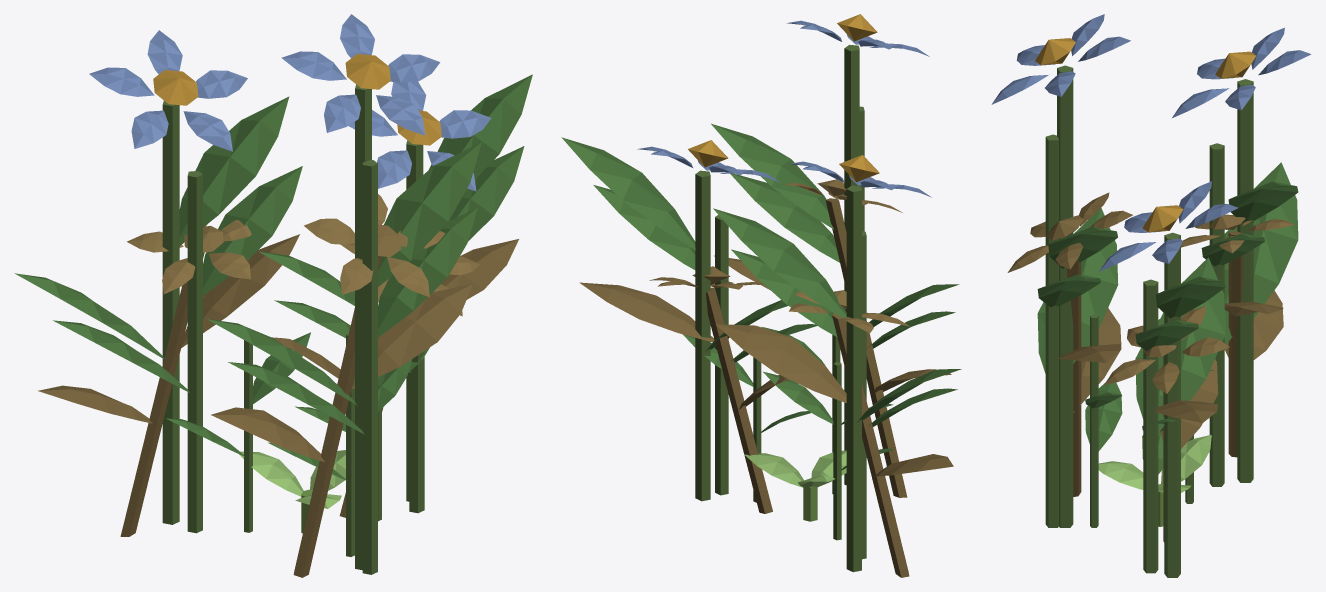
Rendered from spring_flax.glb.
The picture shows the model from 3 angles, left to right: view 1: azimuth 30°, elevation 25°; view 2: azimuth 150°, elevation 25°; view 3: azimuth 270°, elevation 25°; orthographic projection. The views are drawn at different scales.
Visible parts, largest first — view 1: stage3, stage2, dead, stage1, stage0; view 2: stage3, dead, stage2, stage1, stage0; view 3: stage3, stage2, dead, stage1, stage0.
Part boxes in pixels (bbox=[...]): stage3: bbox=[14, 14, 532, 570]; stage2: bbox=[53, 146, 524, 574]; dead: bbox=[38, 194, 518, 577]; stage1: bbox=[166, 332, 429, 556]; stage0: bbox=[239, 450, 345, 533]; stage3: bbox=[561, 14, 961, 572]; dead: bbox=[579, 179, 953, 577]; stage2: bbox=[593, 106, 957, 559]; stage1: bbox=[683, 291, 893, 540]; stage0: bbox=[744, 450, 846, 521]; stage3: bbox=[991, 14, 1311, 577]; stage2: bbox=[1037, 134, 1265, 573]; dead: bbox=[1007, 192, 1294, 542]; stage1: bbox=[1085, 314, 1217, 527]; stage0: bbox=[1098, 435, 1211, 526].
Size of the model in its own units: 0.7327 by 0.7601 by 0.446.
